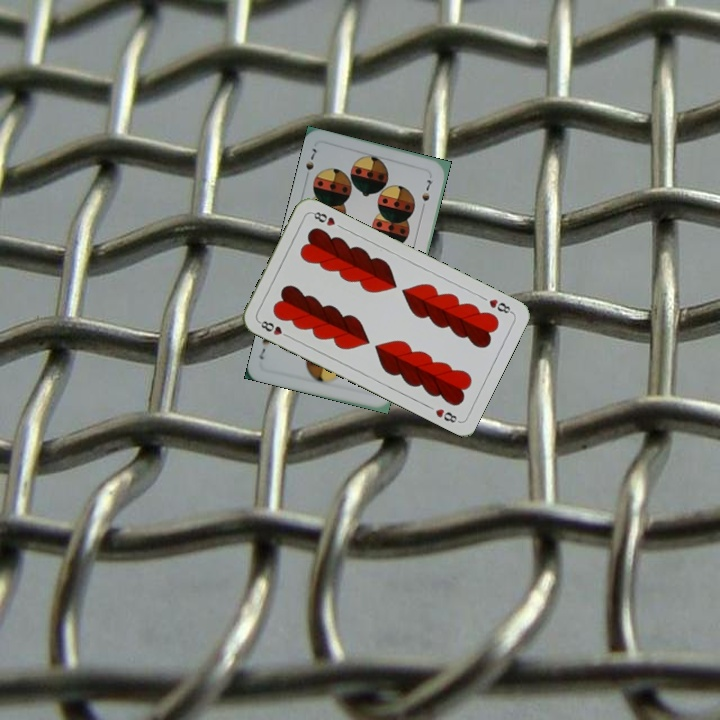H8: (255, 316, 293, 340), (485, 295, 515, 316)
S7: (301, 144, 319, 182)
